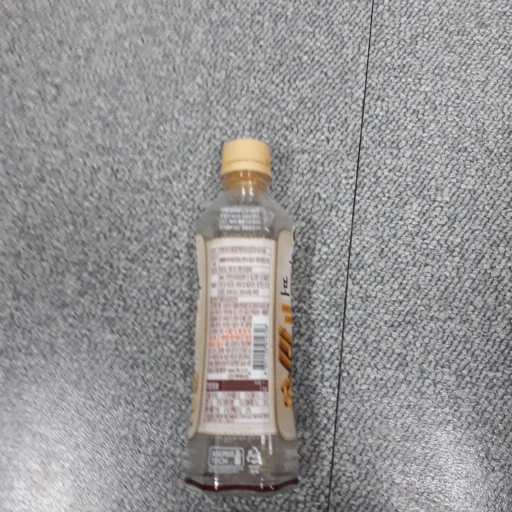Plastic_0: (188, 137, 299, 494)
